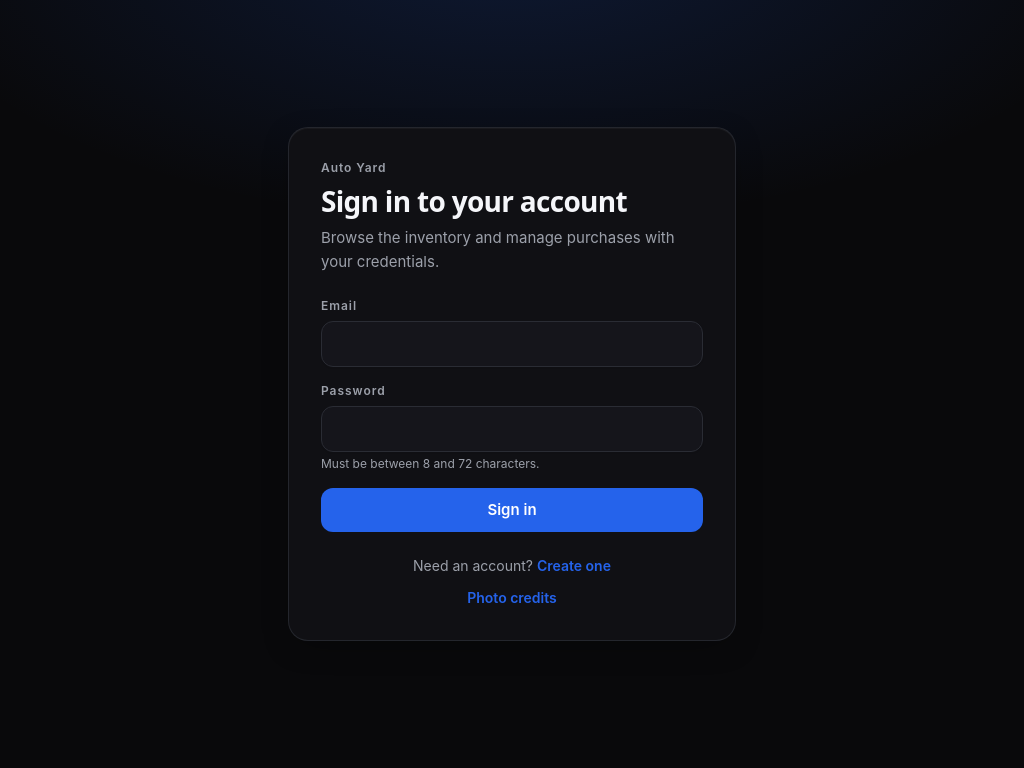
Test case: LoginPage › shows the gateway unavailable message and a retry control
This screenshot has width=1024, height=768.
Type "user@example.com" into the field labelled "Email" at point(512, 344), box [321,321,703,367]
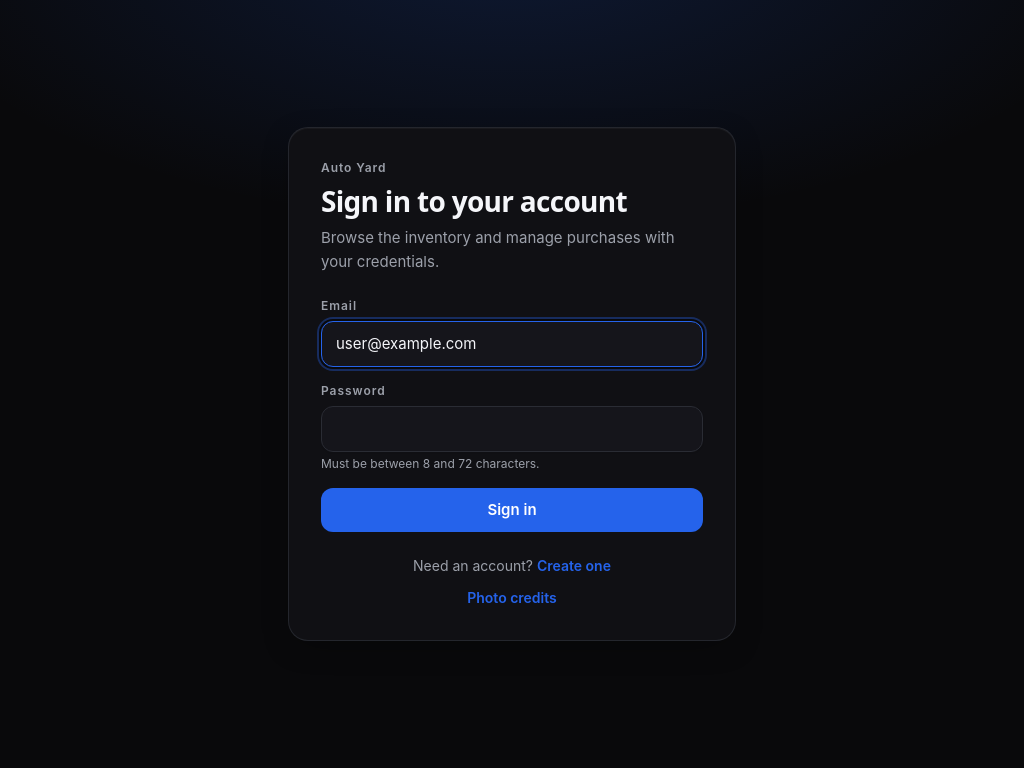
Type "password1234" into the password field labelled "Password" at point(512, 429), box [321,406,703,452]
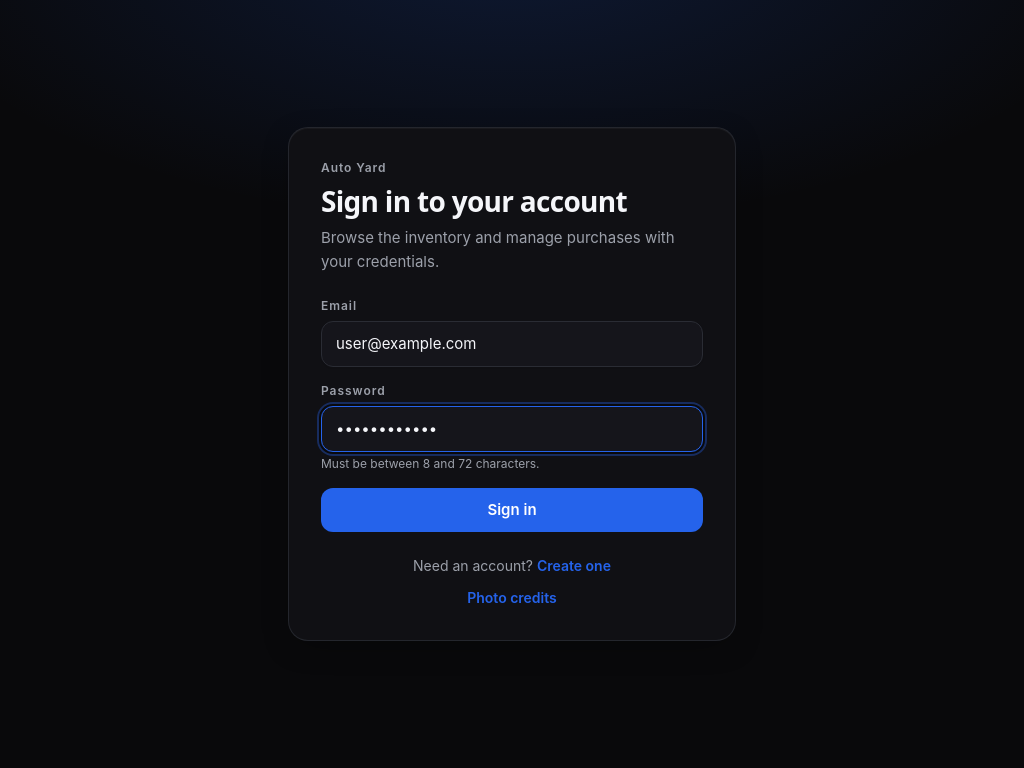
Click the button "Sign in" at point(512, 510), box [321,488,703,532]
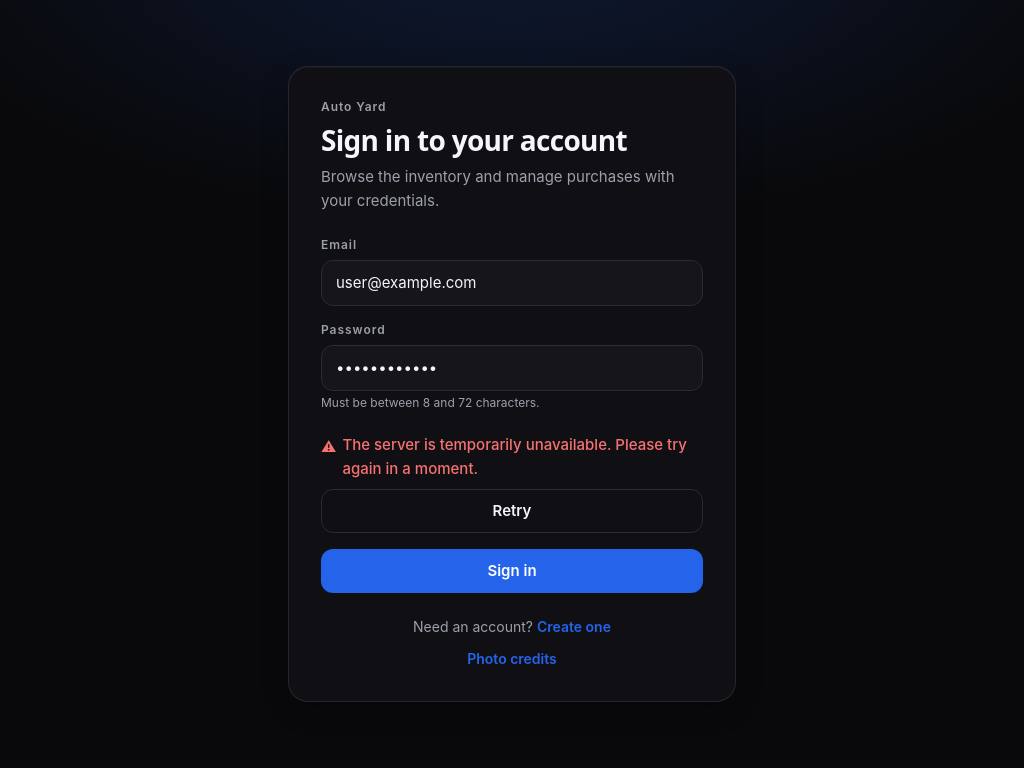
Expected: the text "The server is temporarily unavailable. Please try again in a moment." is shown, [342,433,703,481]
Expected: the button "Retry" is shown, [321,489,703,533]
